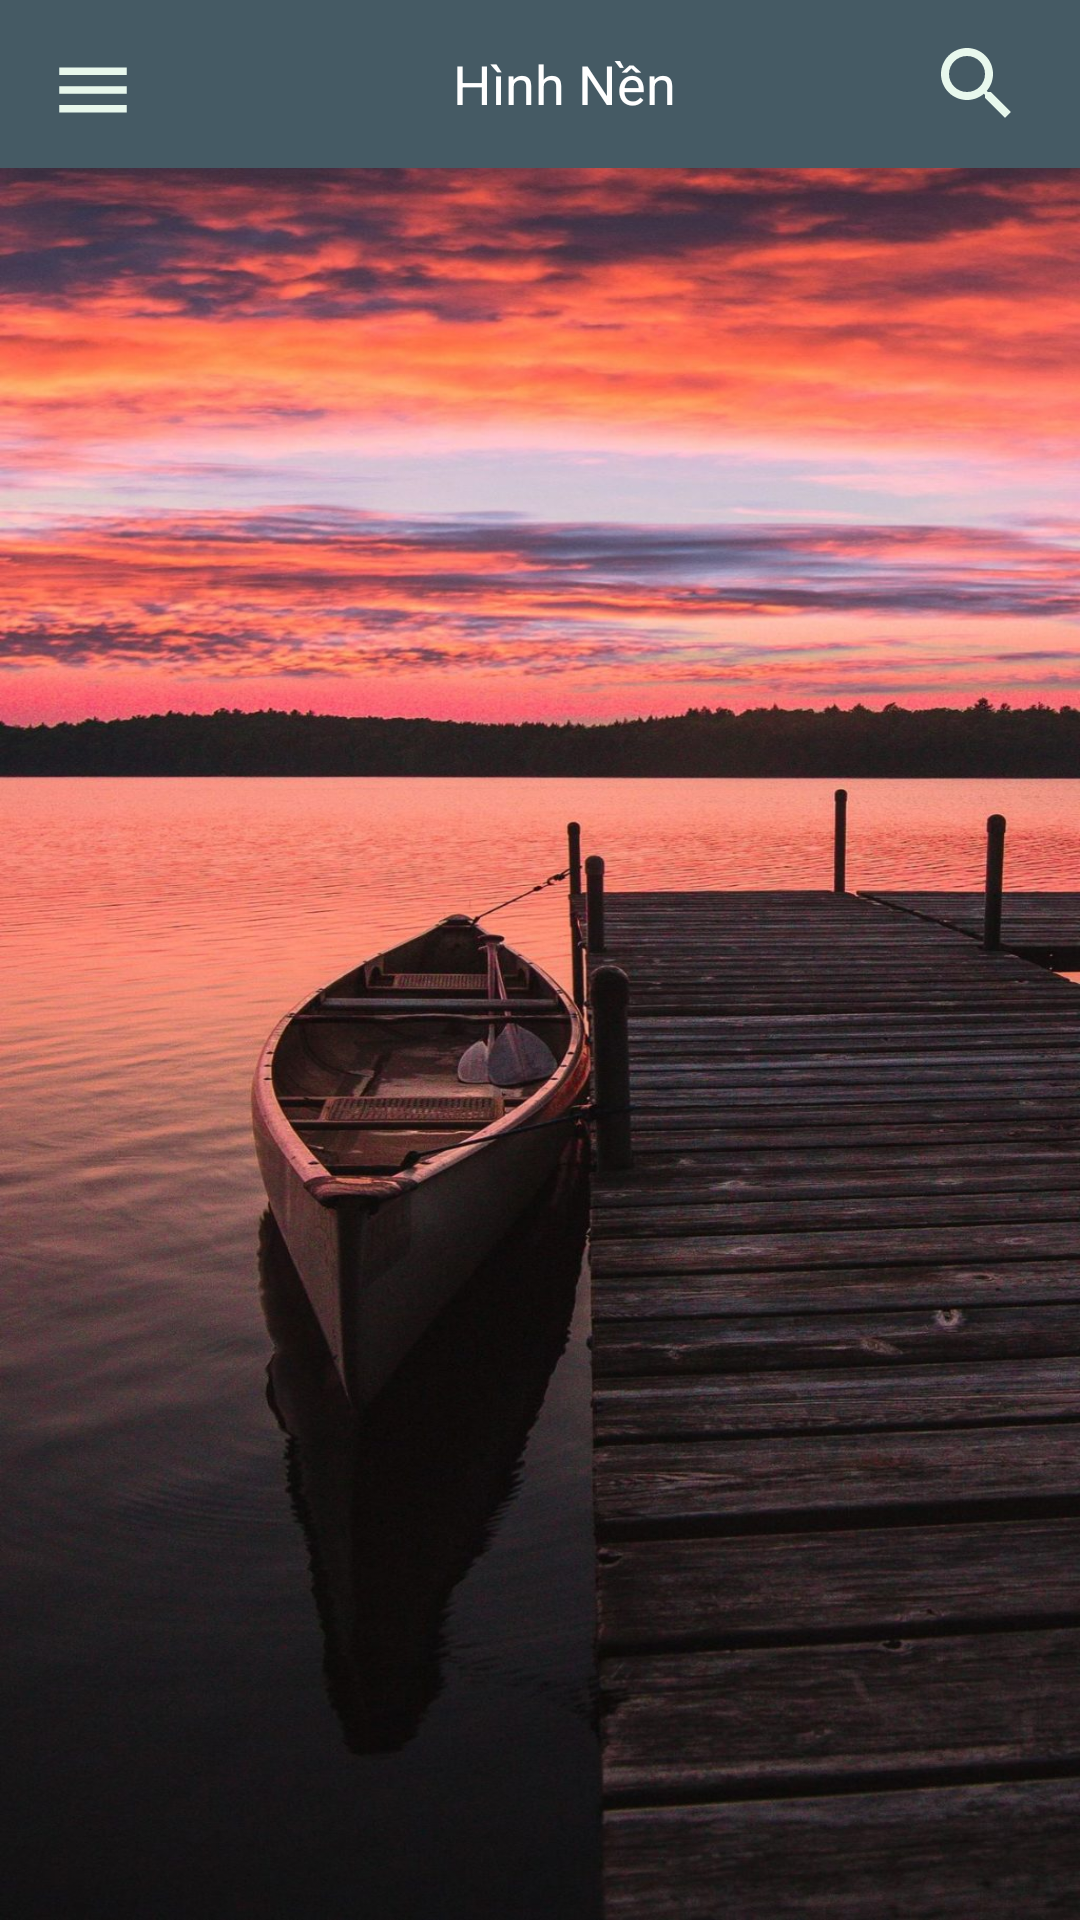

Icon click points for this 1080 × 1920 phone screenshot, format (x,y):
menu: (93,90)
search: (976,83)
